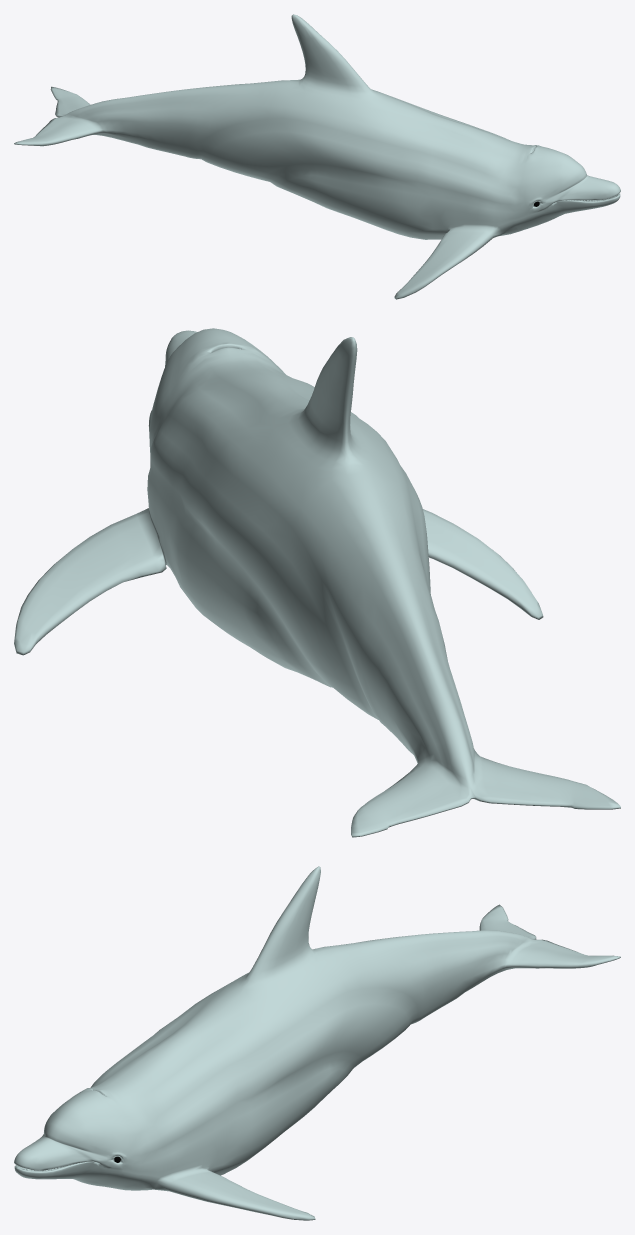
File: dolphin_000002.obj
3 renders of one model, top to bottom at view 1: azimuth 30°, elevation 25°; view 2: azimuth 150°, elevation 25°; view 3: azimuth 270°, elevation 25°, orthographic. The views are drawn at different scales.
Parts seen in each view (by area): view 1: Dolphin; view 2: Dolphin; view 3: Dolphin.
Part boxes in pixels (box(x1,y1,x2,y2)): Dolphin: box(14, 14, 620, 299); Dolphin: box(14, 328, 620, 837); Dolphin: box(14, 866, 620, 1220).
Bounding box in the file's own units: 5.52 × 2.71 × 5.6.
